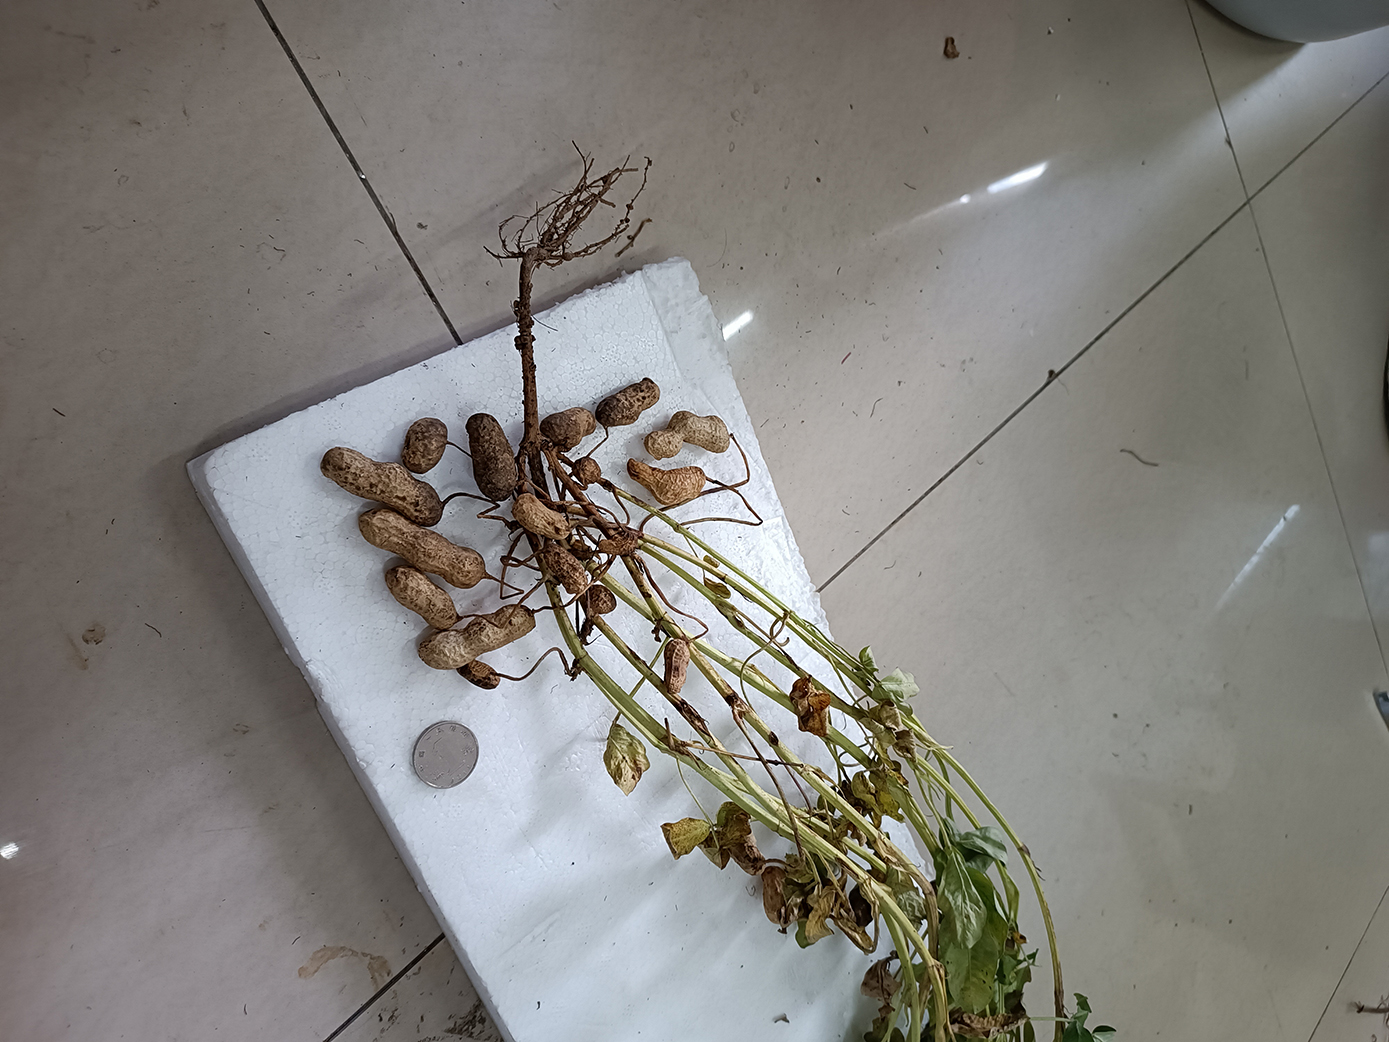h: (361, 508, 486, 590), (319, 444, 439, 524), (418, 605, 539, 670), (643, 412, 736, 462), (387, 565, 459, 630), (625, 460, 706, 505), (598, 378, 665, 426), (402, 417, 449, 474), (510, 495, 570, 539), (543, 545, 589, 592), (663, 638, 688, 694), (458, 661, 500, 688), (595, 533, 637, 558), (584, 584, 617, 615), (572, 460, 603, 484)
l: (465, 414, 517, 497), (540, 408, 598, 452)
